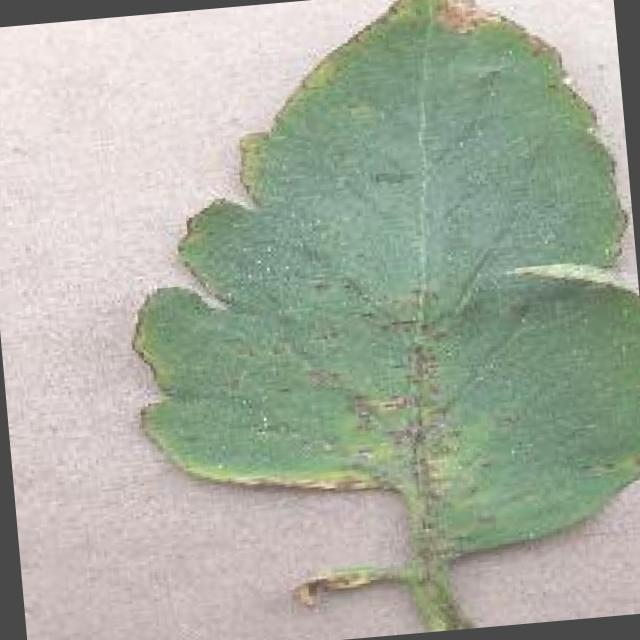bacterial spot: (130, 0, 640, 632)
